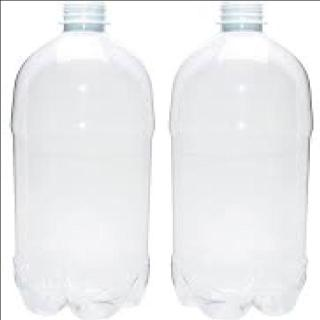Anorganik: (6, 3, 156, 314), (166, 2, 315, 312)
